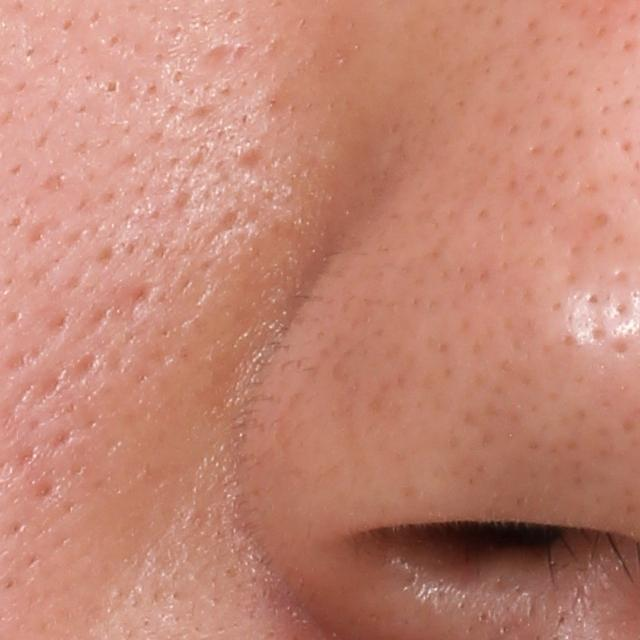atrophic_scar: (107, 279, 157, 326)
comedo: (102, 78, 125, 98)
